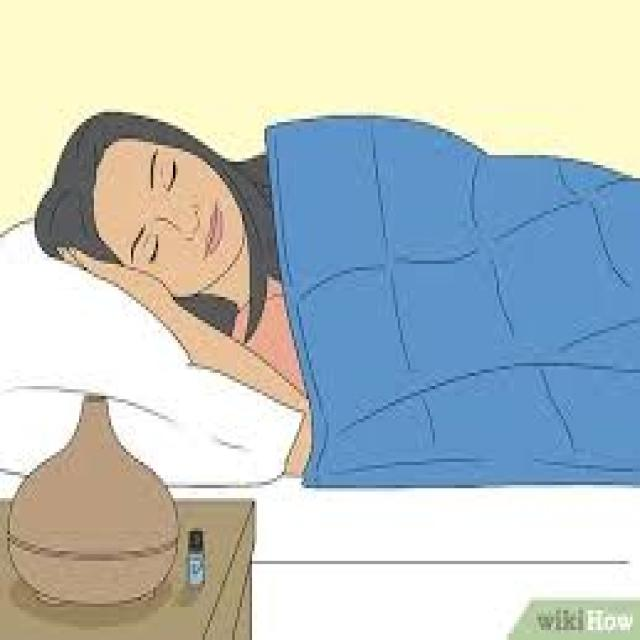blanket: (270, 121, 640, 487)
